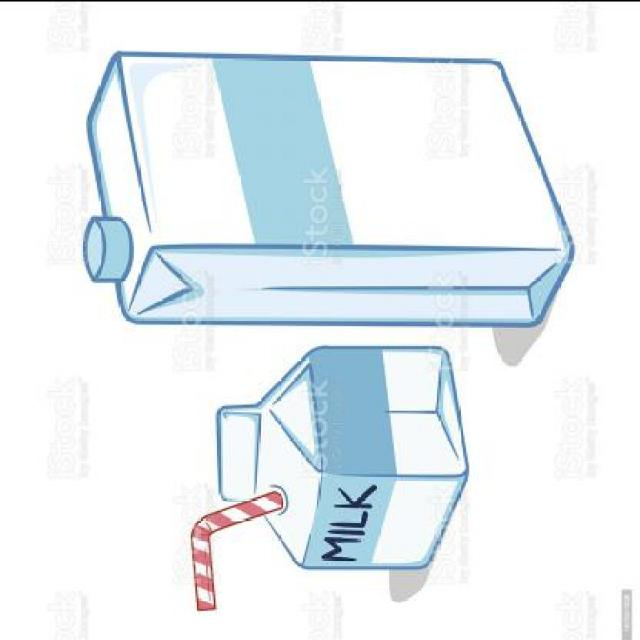non_white_jug: (63, 45, 579, 337), (201, 336, 494, 576)
